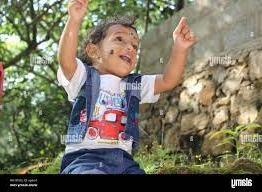Human: (56, 1, 203, 180)
